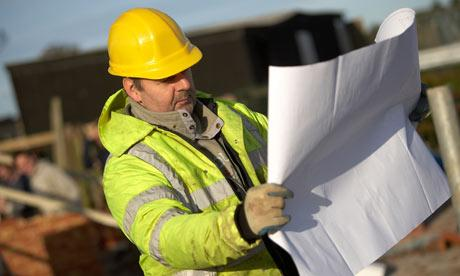helmet: (108, 8, 202, 81)
